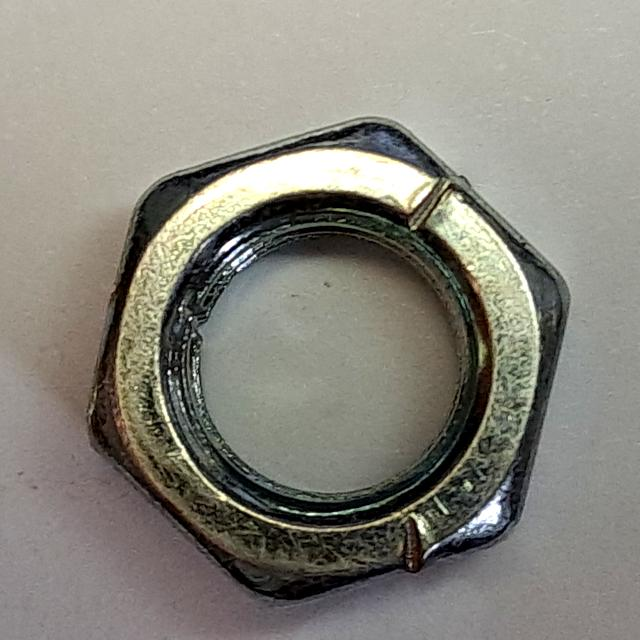Scratches: (77, 106, 581, 623)
